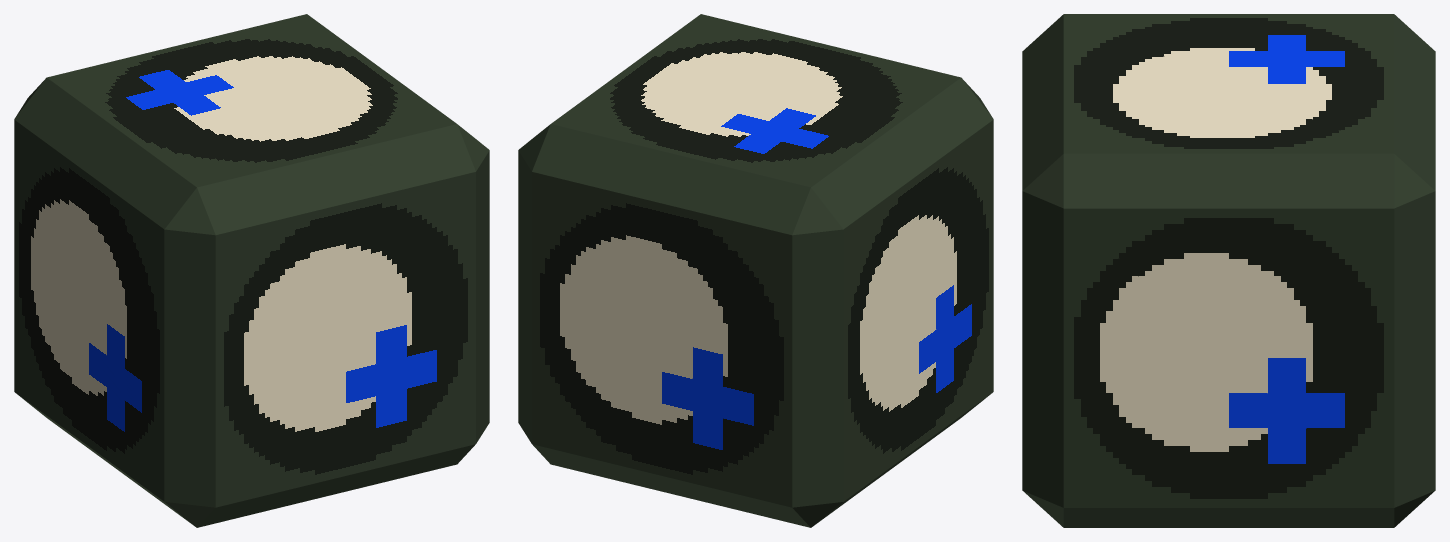
File: Ball Pack.fbx
3 renders of one model, left to right at view 1: azimuth 30°, elevation 25°; view 2: azimuth 150°, elevation 25°; view 3: azimuth 270°, elevation 25°, orthographic. The views are drawn at different scales.
Parts seen in each view (by area): view 1: Ball Pack; view 2: Ball Pack; view 3: Ball Pack.
Part boxes in pixels (x1,y1,x2,y2): Ball Pack: (14, 14, 489, 527); Ball Pack: (518, 14, 993, 527); Ball Pack: (1022, 14, 1435, 527).
Bounding box in the file's own units: 2 × 2 × 2.
Materials: 1 (1 with a texture image).
